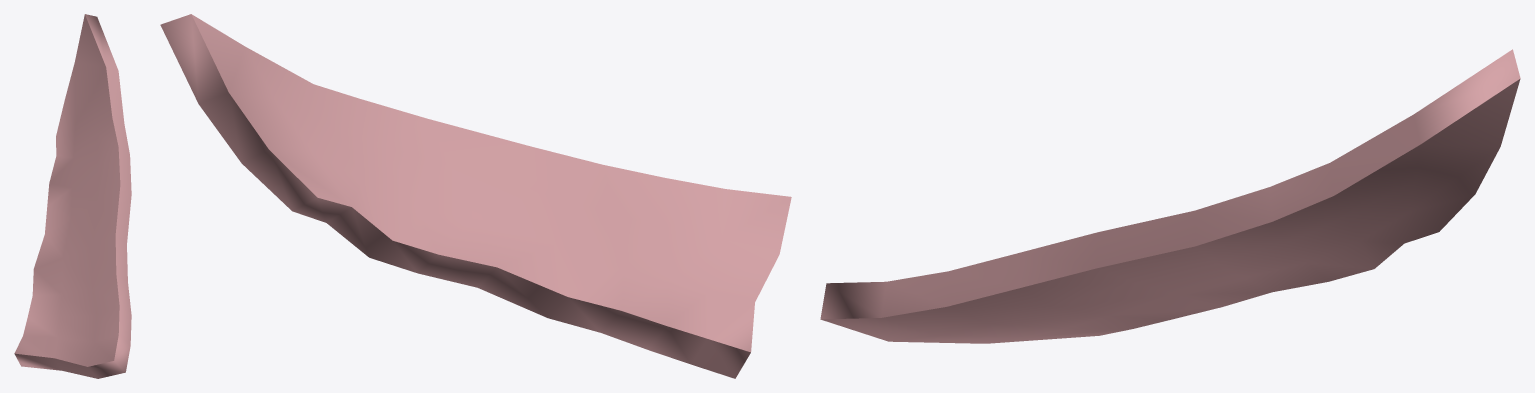
3 views of the same model, side by side, from view 1: azimuth 30°, elevation 25°; view 2: azimuth 150°, elevation 25°; view 3: azimuth 270°, elevation 25° (orthographic). The views are drawn at different scales.
Parts seen in each view (by area): view 1: ZA_fa223a85ed6bf470; view 2: ZA_fa223a85ed6bf470; view 3: ZA_fa223a85ed6bf470.
Part boxes in pixels (<box>): ZA_fa223a85ed6bf470: <box>14,14,131,378</box>; ZA_fa223a85ed6bf470: <box>160,14,791,378</box>; ZA_fa223a85ed6bf470: <box>820,49,1520,343</box>.
Size of the model in its own units: 0.0358 by 0.04 by 0.0554.
